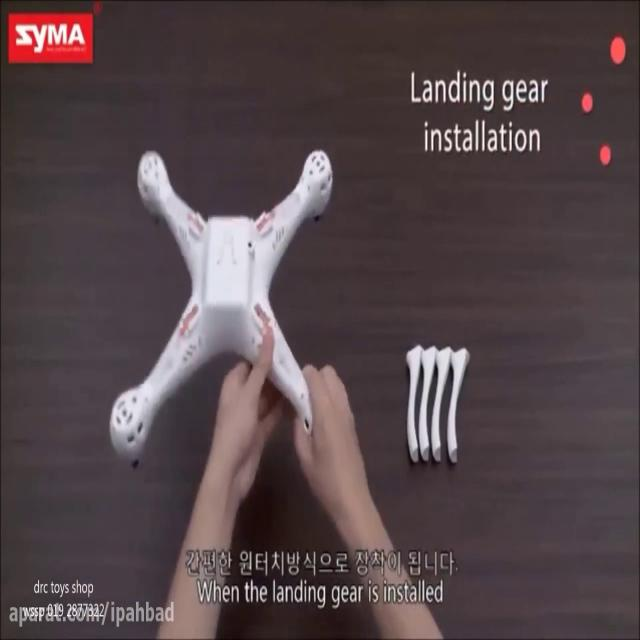drone: (105, 142, 341, 478)
